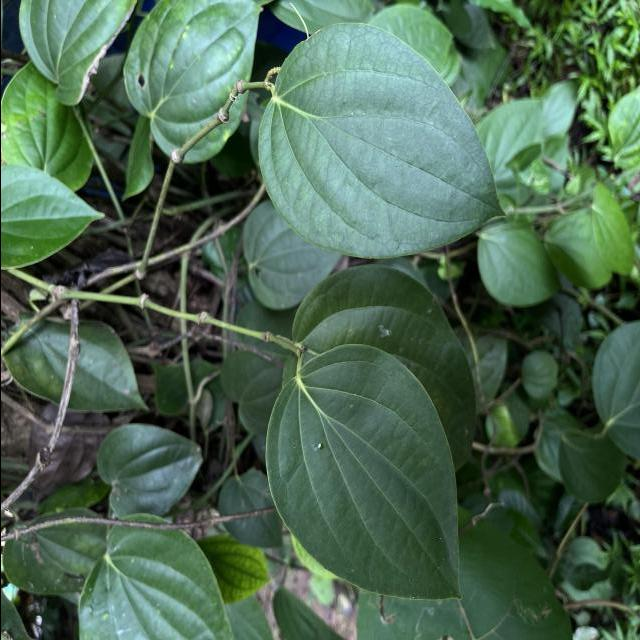Piper nigrum: (256, 20, 507, 262), (262, 340, 462, 602)
